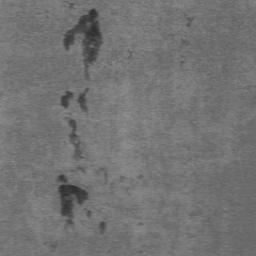Iron scale compression: (64, 8, 101, 64), (58, 175, 86, 227), (69, 120, 85, 160), (61, 92, 74, 109), (80, 90, 88, 111), (99, 221, 106, 235)
